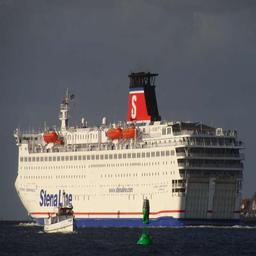Ship: (8, 64, 244, 230)
